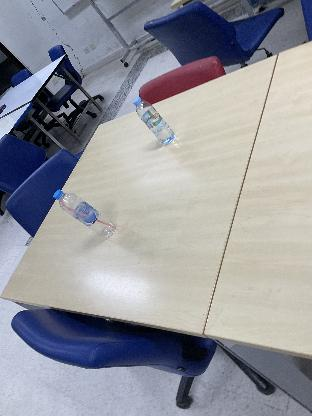Plastic Bottle: (53, 189, 117, 238), (132, 96, 176, 146)
